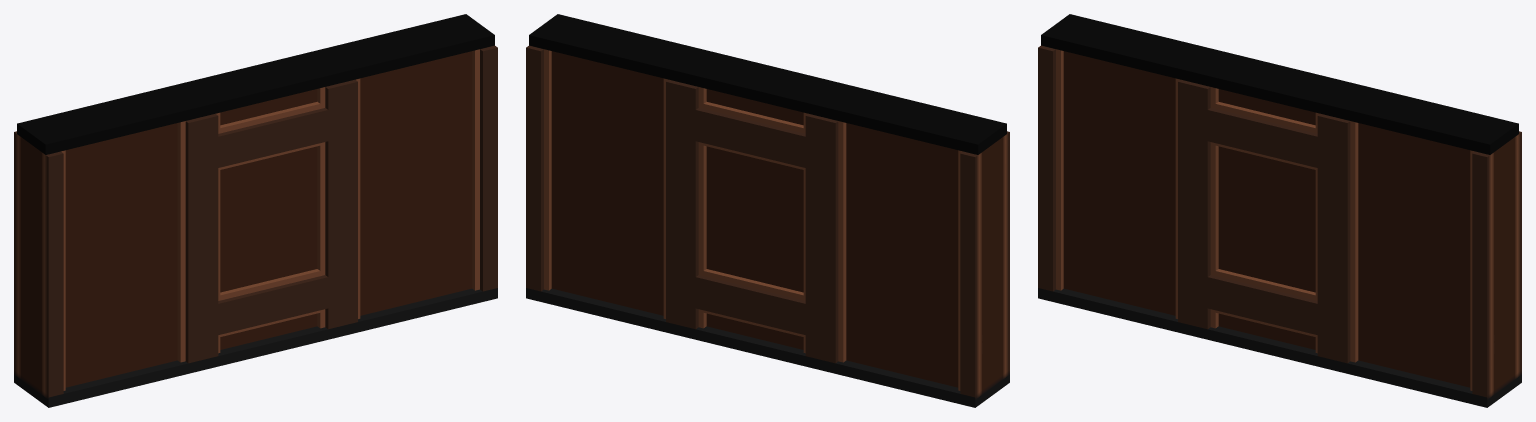
File: Wall-Wood-Model-07.fbx
The picture shows the model from 3 angles, left to right: view 1: azimuth 30°, elevation 25°; view 2: azimuth 150°, elevation 25°; view 3: azimuth 330°, elevation 25°; orthographic projection.
Parts seen in each view (by area): view 1: Wall-Wood-Model-07; view 2: Wall-Wood-Model-07; view 3: Wall-Wood-Model-07.
Part boxes in pixels (x1,y1,x2,y2): Wall-Wood-Model-07: (14, 14, 497, 407); Wall-Wood-Model-07: (526, 14, 1009, 407); Wall-Wood-Model-07: (1038, 14, 1521, 407).
Bounding box in the file's own units: 90 × 50 × 12.
Materials: 1 (1 with a texture image).
